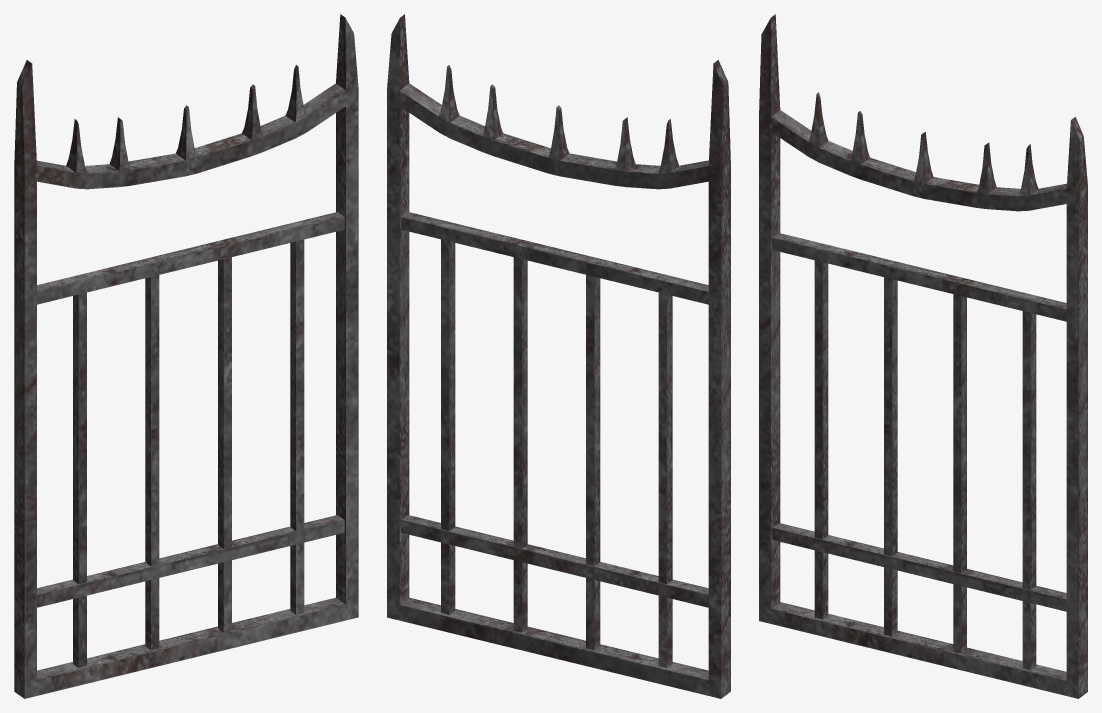
Rendered from Cemitery Gate.fbx.
3 renders of one model, left to right at view 1: azimuth 30°, elevation 25°; view 2: azimuth 150°, elevation 25°; view 3: azimuth 330°, elevation 25°, orthographic. The views are drawn at different scales.
Parts seen in each view (by area): view 1: PortaoCemiterio.006; view 2: PortaoCemiterio.006; view 3: PortaoCemiterio.006.
Boxes of the visible parts, x1,y1,x2,y2 form: PortaoCemiterio.006: [14, 14, 358, 698]; PortaoCemiterio.006: [387, 14, 730, 698]; PortaoCemiterio.006: [759, 14, 1087, 698].
Size of the model in its own units: 151 by 273 by 7.85.
